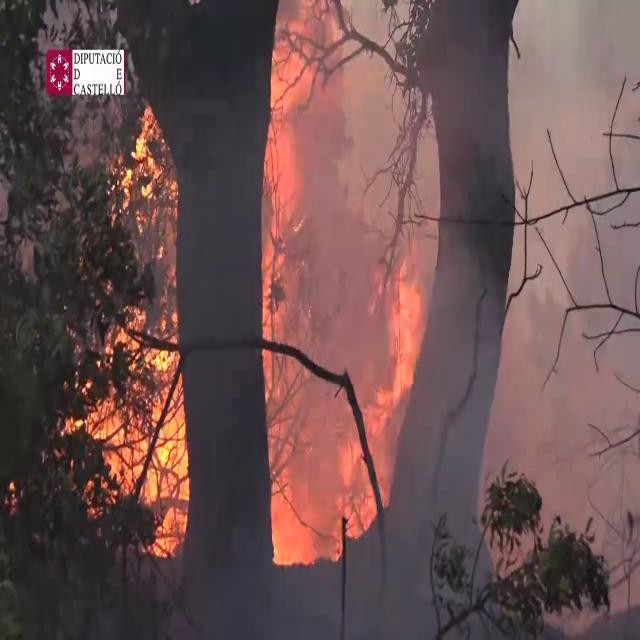Fire: (50, 105, 204, 554), (328, 232, 437, 518)
Smoke: (273, 29, 640, 535)
